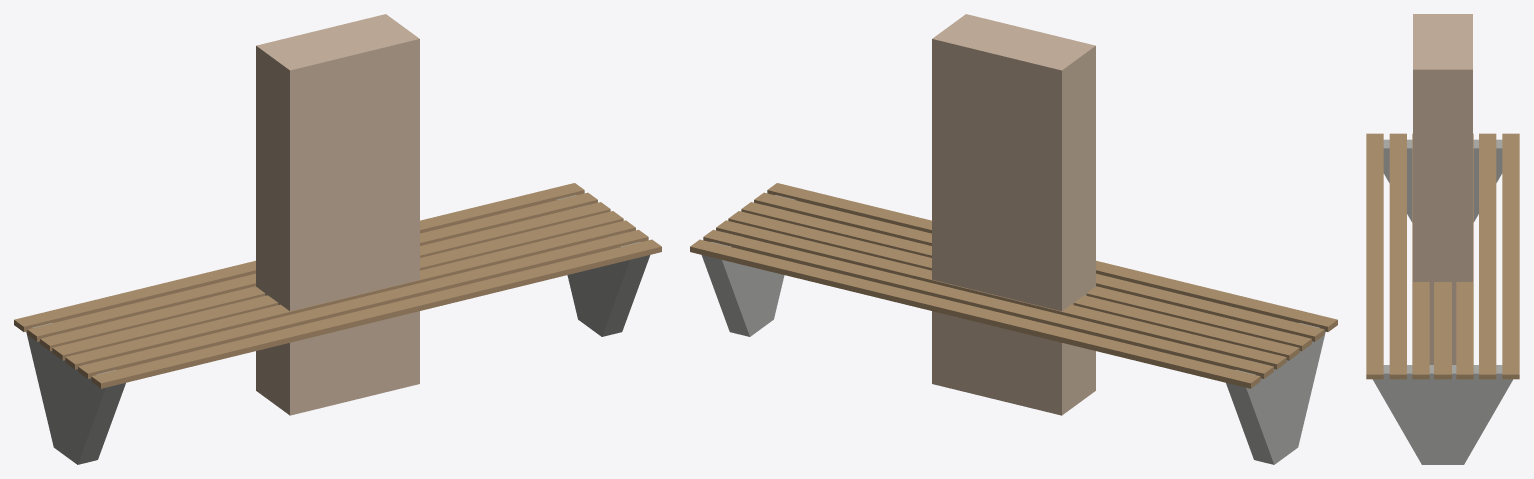
The model's file is bench.glb.
3 views of the same model, side by side, from view 1: azimuth 30°, elevation 25°; view 2: azimuth 150°, elevation 25°; view 3: azimuth 270°, elevation 25° (orthographic). The views are drawn at different scales.
Parts seen in each view (by area): view 1: Cube.001, Cube; view 2: Cube.001, Cube; view 3: Cube, Cube.001.
Part boxes in pixels (bbox=[...]): Cube.001: bbox=[256, 14, 419, 415]; Cube: bbox=[14, 183, 661, 464]; Cube.001: bbox=[932, 14, 1095, 415]; Cube: bbox=[690, 183, 1337, 464]; Cube: bbox=[1366, 133, 1519, 464]; Cube.001: bbox=[1413, 14, 1472, 364].
Bounding box in the file's own units: 3.04 × 1.8 × 0.8171.
